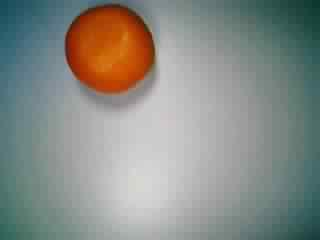orange: (64, 3, 155, 96)
